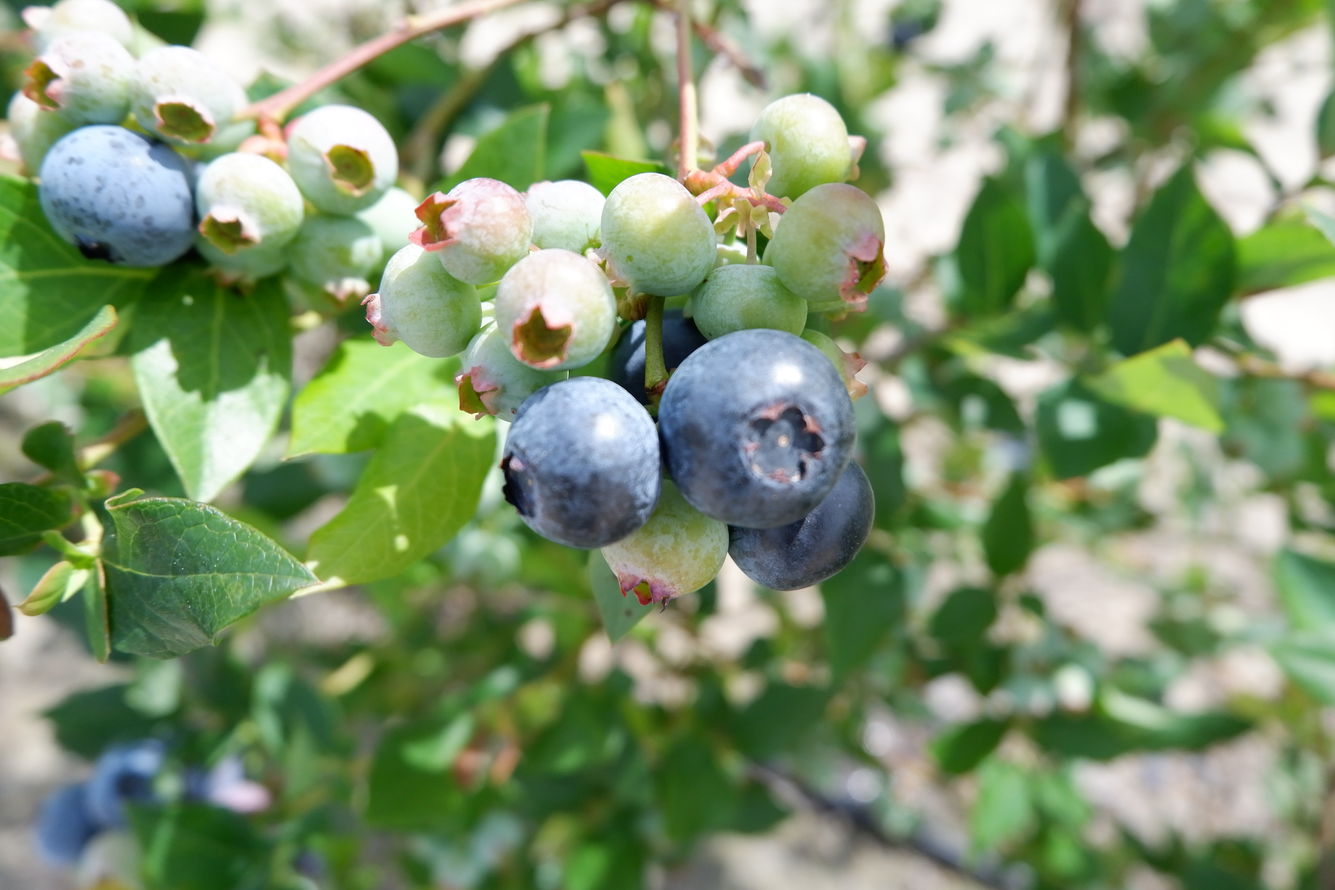Immature: (607, 479, 727, 602), (772, 186, 885, 306), (497, 251, 613, 366), (603, 176, 713, 293), (371, 245, 478, 356), (414, 180, 529, 283), (135, 50, 247, 152), (751, 96, 864, 196), (287, 107, 393, 212), (25, 31, 136, 121), (195, 156, 300, 251), (464, 329, 562, 424), (694, 266, 804, 337), (528, 182, 603, 253), (688, 239, 754, 299), (809, 330, 868, 394)
Mature: (662, 331, 852, 525), (503, 380, 656, 546), (40, 124, 193, 261), (732, 464, 872, 588), (609, 312, 702, 411)
